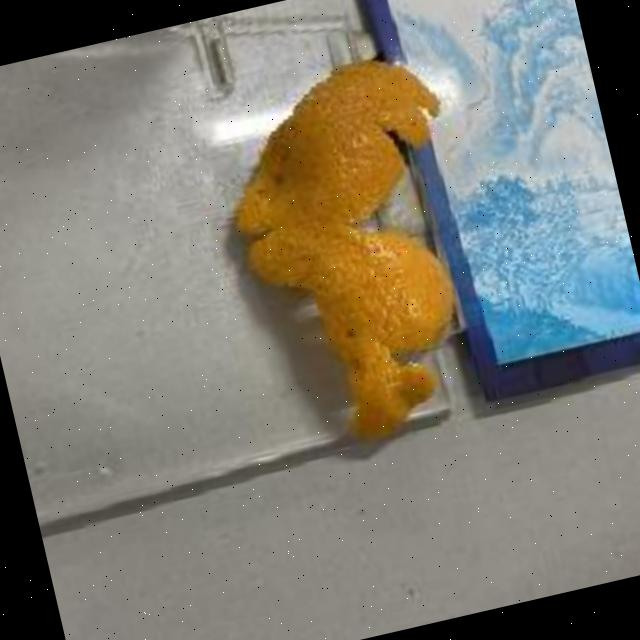orange-peel: (199, 40, 512, 462)
